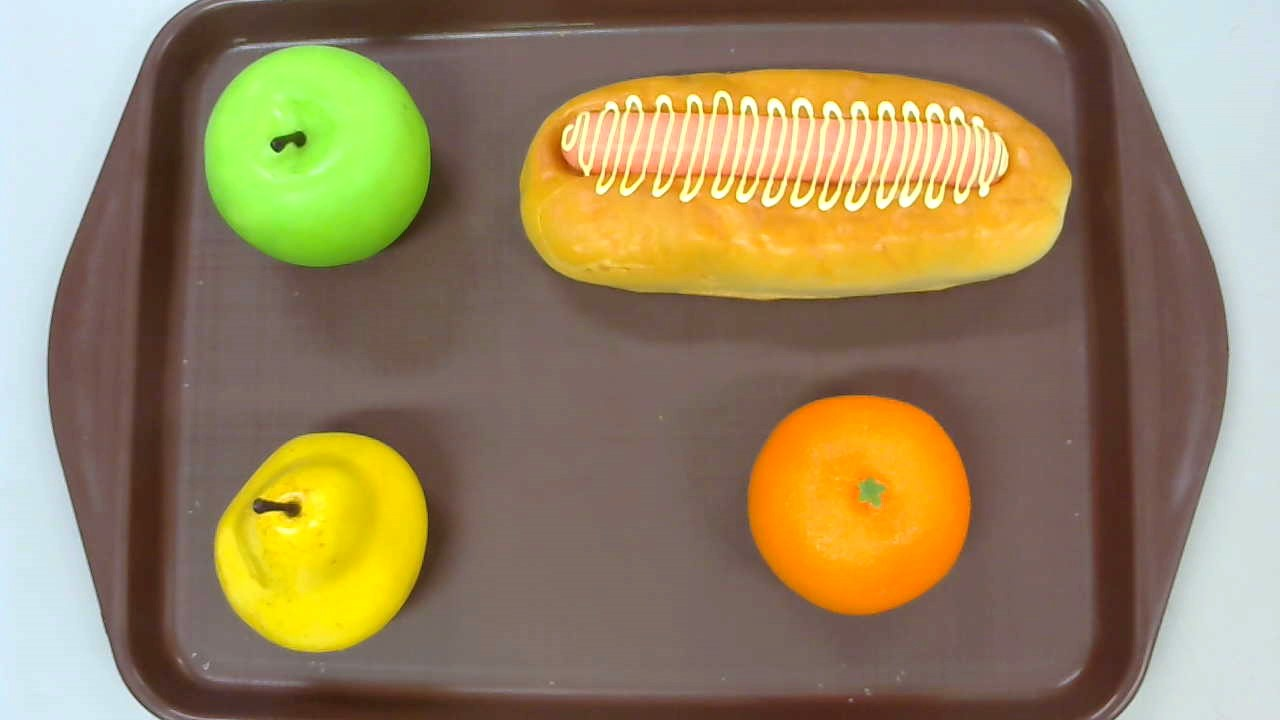green apple: (204, 45, 430, 266)
hot dog: (519, 67, 1072, 301)
orange: (747, 394, 971, 614)
yellow pear: (214, 432, 428, 653)
